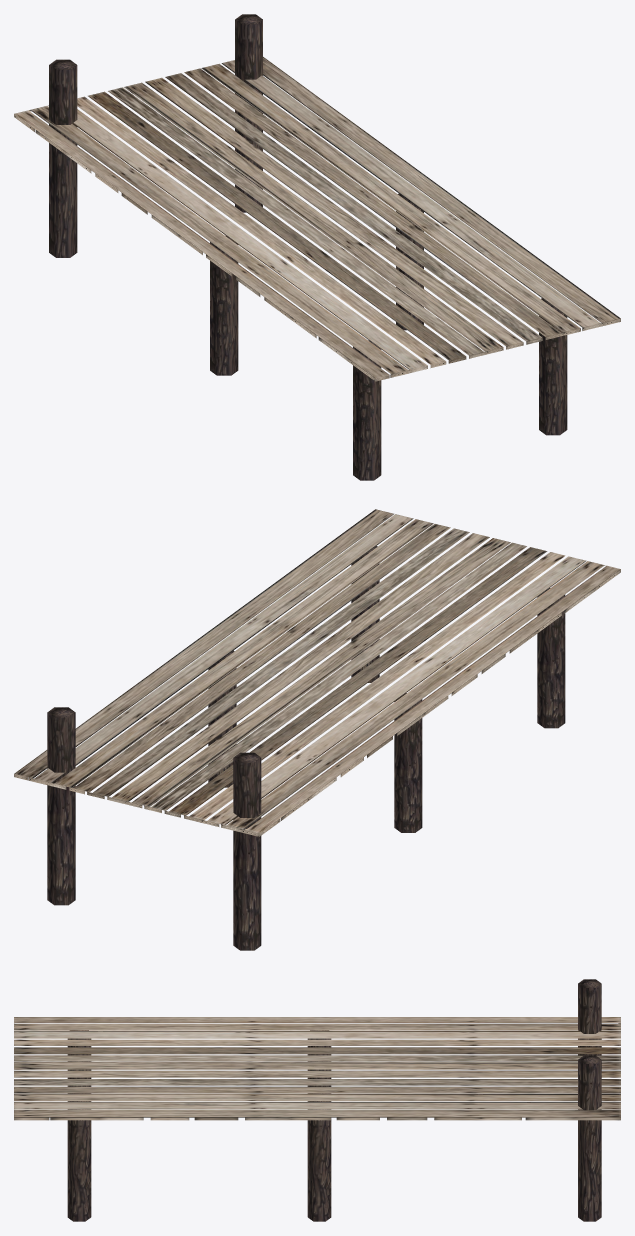
The model's file is brygga.glb.
The picture shows the model from 3 angles, top to bottom: view 1: azimuth 30°, elevation 25°; view 2: azimuth 150°, elevation 25°; view 3: azimuth 270°, elevation 25°; orthographic projection. The views are drawn at different scales.
Visible parts, largest first — view 1: export-node-2, Merged batch 1; view 2: export-node-2, Merged batch 1; view 3: export-node-2, Merged batch 1.
Boxes of the visible parts, x1,y1,x2,y2 form: export-node-2: [14, 57, 620, 381]; Merged batch 1: [49, 14, 567, 480]; export-node-2: [14, 509, 620, 836]; Merged batch 1: [47, 546, 565, 950]; export-node-2: [14, 1017, 620, 1120]; Merged batch 1: [67, 979, 601, 1221].
Size of the model in its own units: 7.92 by 5.8 by 20.21.
Materials: 2 (2 with a texture image).
